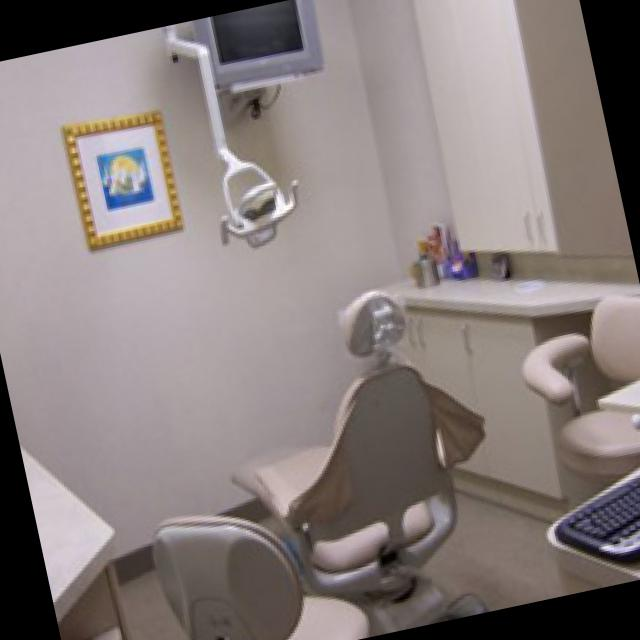2001: (116, 32, 311, 203), (423, 0, 576, 143)
books crop: (427, 104, 464, 153)
briefcase: (547, 173, 623, 218)
chair -occluded-: (148, 396, 375, 640)
computer crop: (395, 398, 541, 559)
desk calendar: (56, 270, 574, 575), (460, 185, 640, 340)
file cabinet: (114, 331, 195, 384)
footrest: (544, 383, 640, 444)
keyboard crop: (330, 317, 415, 371), (532, 248, 618, 283)
monitor crop: (303, 241, 379, 325), (457, 197, 504, 245)
shelf crop: (153, 102, 558, 273), (434, 238, 503, 285)
statue: (462, 47, 502, 146)
vase -X: (245, 180, 264, 210), (209, 192, 228, 222), (228, 187, 245, 214)
